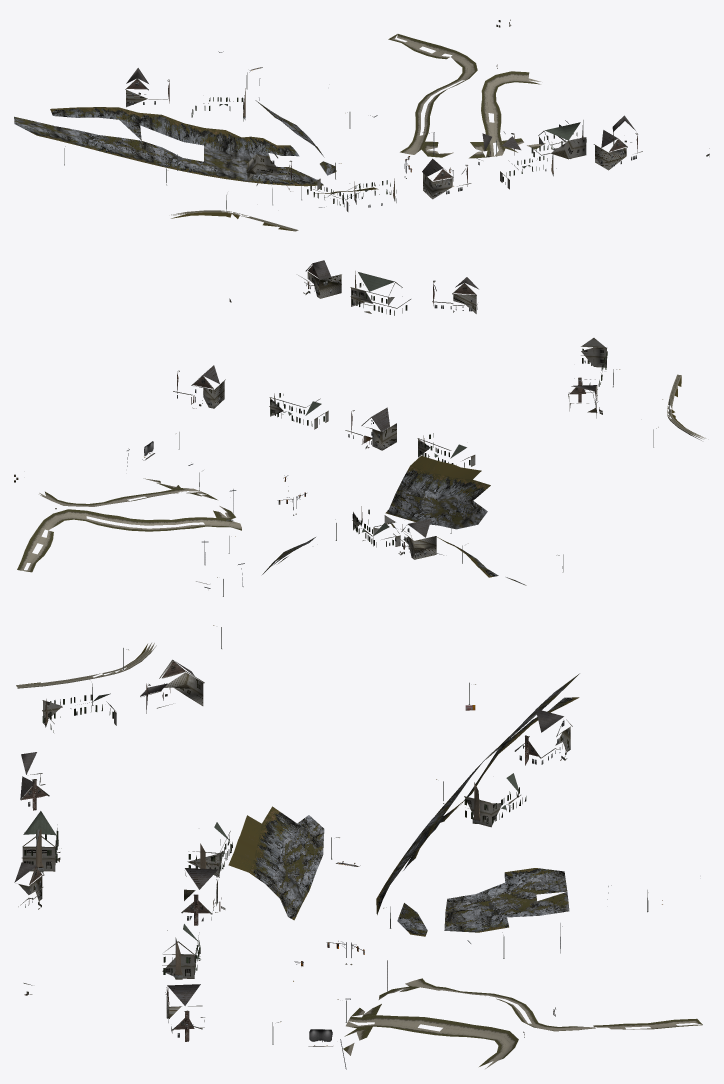
Rendered from world_camden_17_-5.gltf.
3 views of the same model, one above another, from view 1: azimuth 30°, elevation 25°; view 2: azimuth 150°, elevation 25°; view 3: azimuth 270°, elevation 25° (orthographic). The views are drawn at different scales.
Bounding box in the file's own units: 263 × 71.84 × 240.
30 materials, 30 textured.
